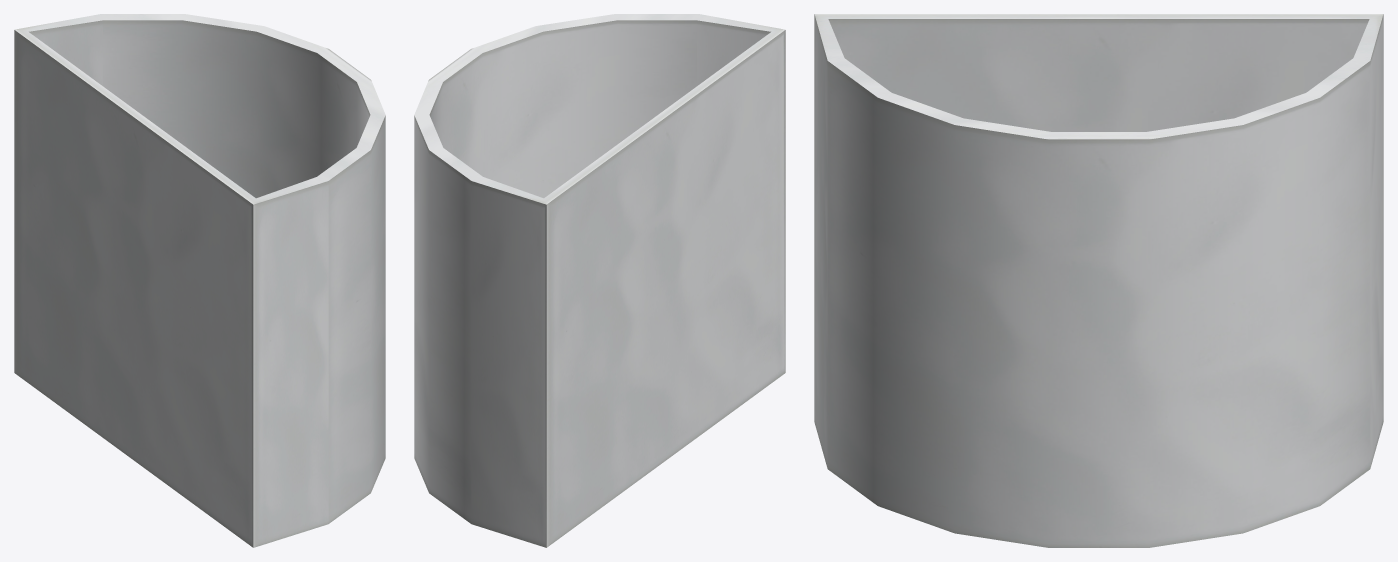
File: WallLamp005.FBX
3 views of the same model, side by side, from view 1: azimuth 30°, elevation 25°; view 2: azimuth 150°, elevation 25°; view 3: azimuth 270°, elevation 25° (orthographic). The views are drawn at different scales.
Visible parts, largest first — view 1: WallLamp005; view 2: WallLamp005; view 3: WallLamp005.
Boxes of the visible parts, x1=… form: WallLamp005: x1=14, y1=14, x2=385, y2=547; WallLamp005: x1=414, y1=14, x2=785, y2=547; WallLamp005: x1=814, y1=14, x2=1383, y2=547.
Size of the model in its own units: 19.78 by 30 by 37.88.
